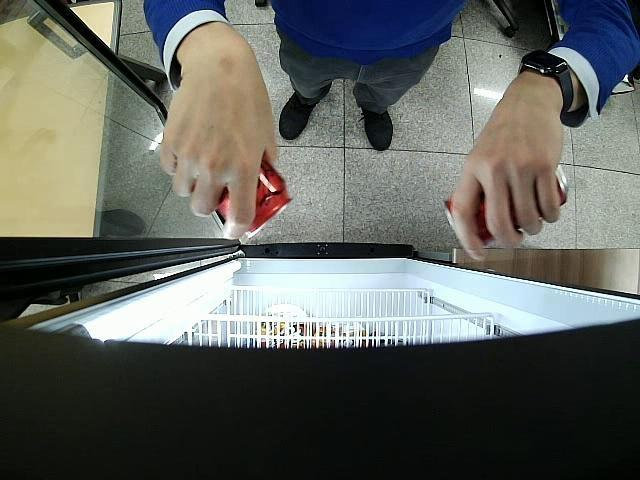11_cocaColaZero: (444, 162, 568, 246), (219, 156, 294, 239)
